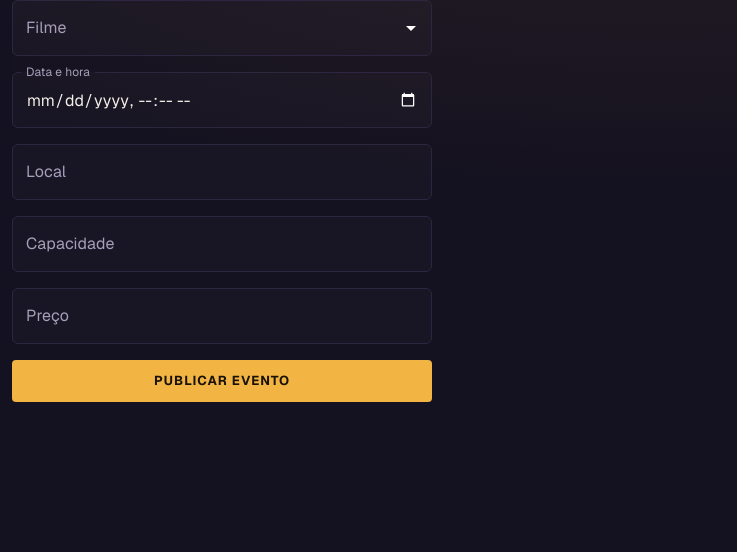
Test: CreateEventForm › shows a validation error when capacity exceeds the seat-grid limit
Type "300" into the number field labelled "Capacidade" at (222, 244), box [12,216,432,272]
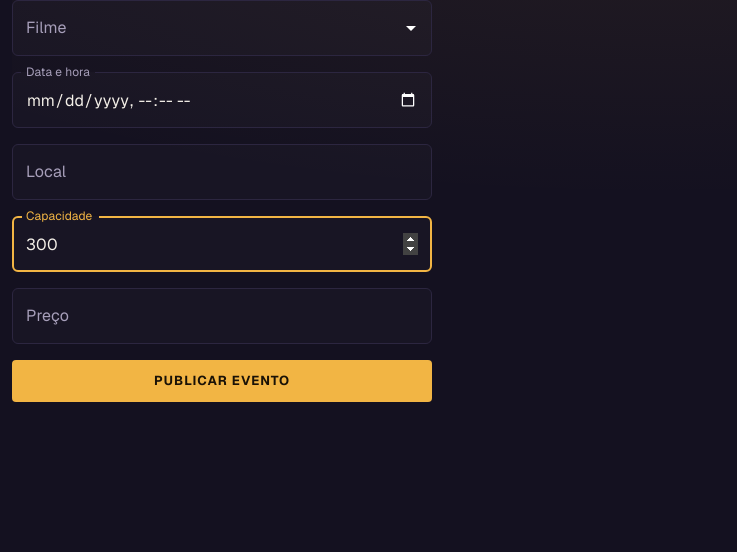
Click the button "Publicar evento" at (222, 381), box [12,360,432,402]
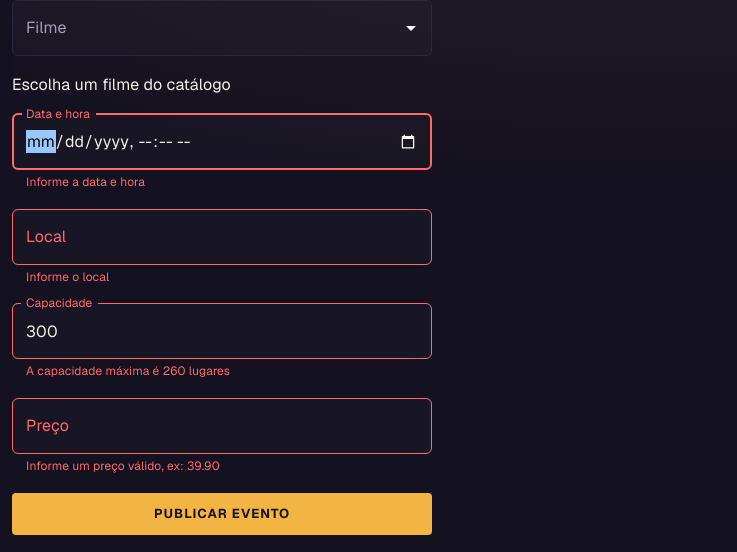
Result: the text "A capacidade máxima é 260 lugares" is shown at [26,363,230,379]
